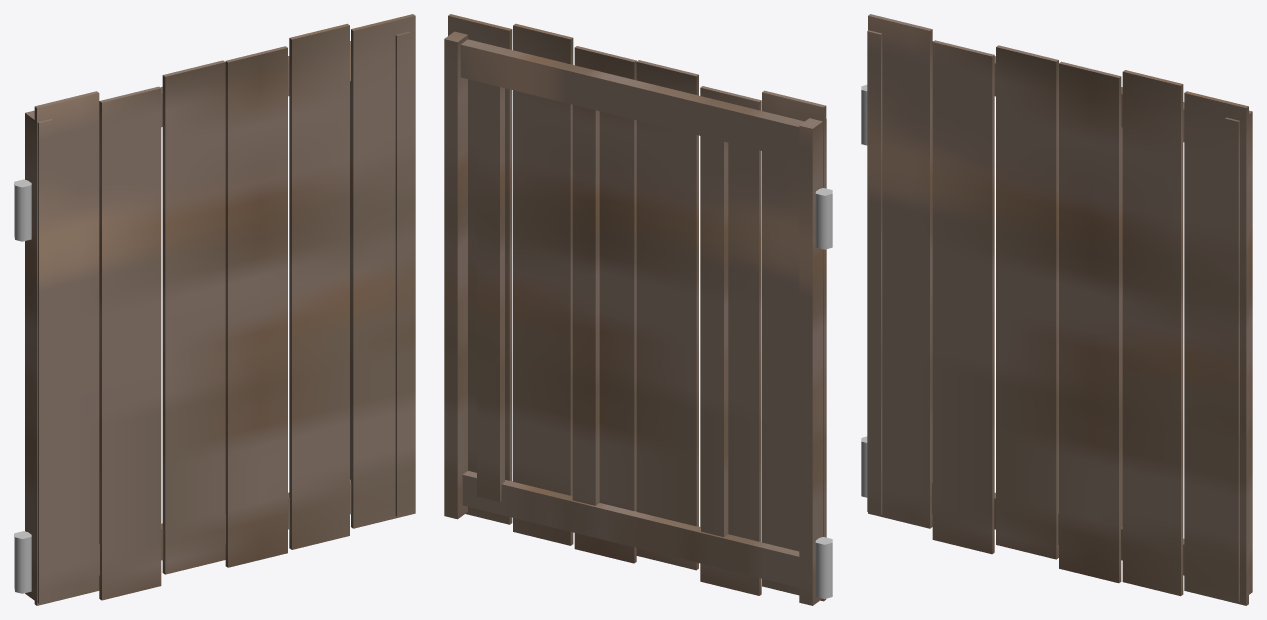
The model's file is entdoor5.fbx.
3 views of the same model, side by side, from view 1: azimuth 30°, elevation 25°; view 2: azimuth 150°, elevation 25°; view 3: azimuth 330°, elevation 25° (orthographic).
Visible parts, largest first — view 1: entdoor5; view 2: entdoor5; view 3: entdoor5.
Part boxes in pixels (<box>): entdoor5: <box>14,14,415,605</box>; entdoor5: <box>444,14,832,605</box>; entdoor5: <box>861,14,1252,605</box>.
Size of the model in its own units: 0.5767 by 0.7219 by 0.0361.
